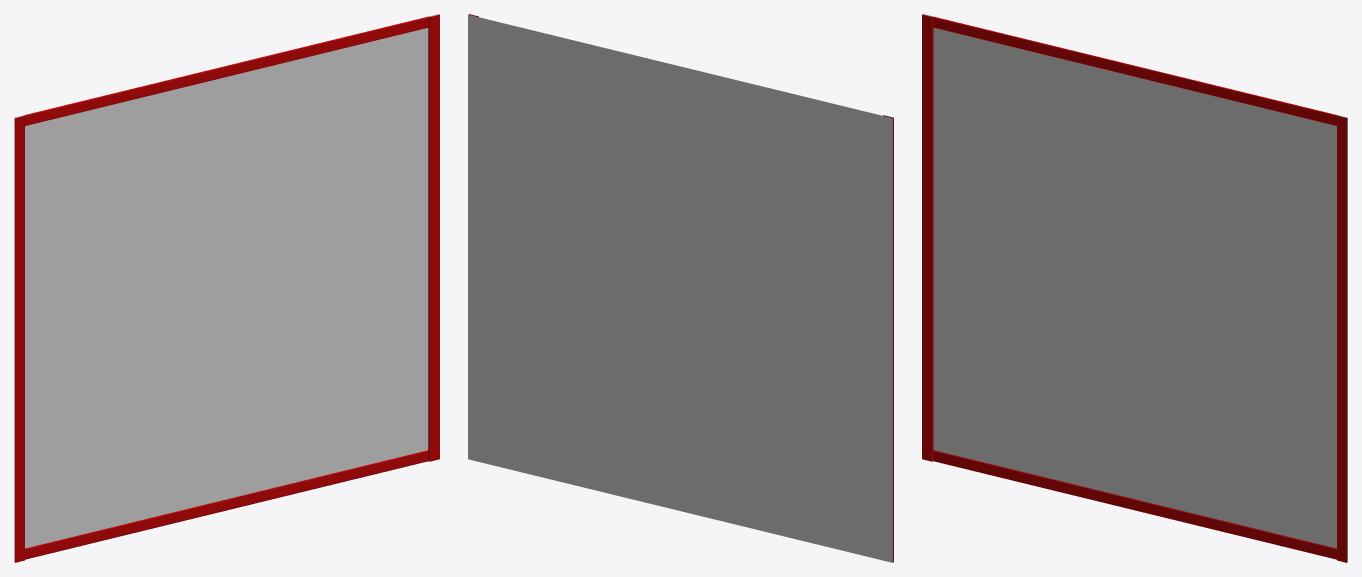
The model's file is Wall02cTop.fbx.
3 views of the same model, side by side, from view 1: azimuth 30°, elevation 25°; view 2: azimuth 150°, elevation 25°; view 3: azimuth 330°, elevation 25° (orthographic).
Parts seen in each view (by area): view 1: Wall02cTop; view 2: Wall02cTop; view 3: Wall02cTop.
Boxes of the visible parts, x1,y1,x2,y2 form: Wall02cTop: (14, 14, 439, 562); Wall02cTop: (468, 14, 893, 562); Wall02cTop: (922, 14, 1347, 562).
Size of the model in its own units: 100 by 100 by 0.348.
